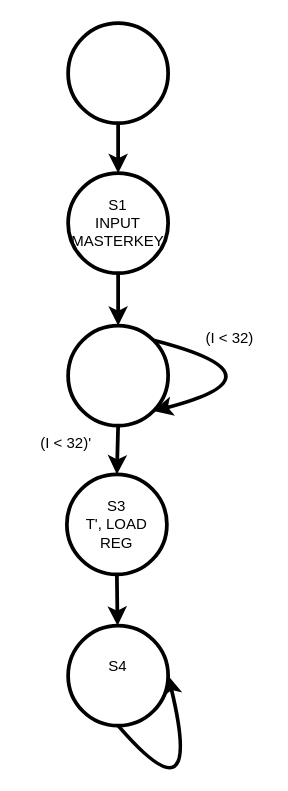
This 288x791 diagram has some shape labels left out. Here are the shapes that lost their labels. From the top down, the centre of each, then its label:
At pixel 117 72: "S0 I = 0".
At pixel 117 375: "S2 T', LOAD REG".
